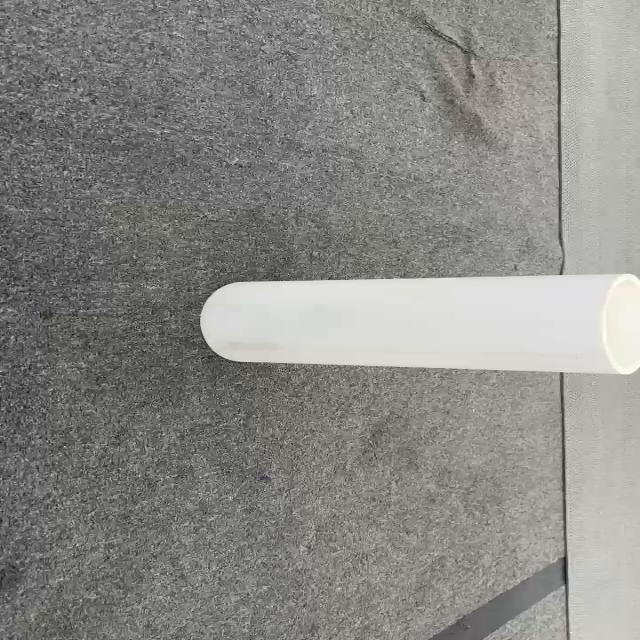coral: (1, 0, 582, 638)
